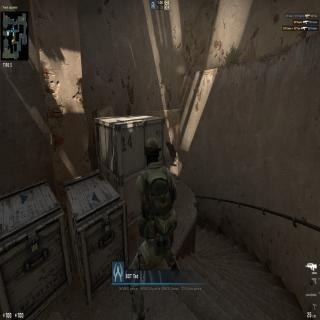CT-Head: (144, 136, 162, 167)
